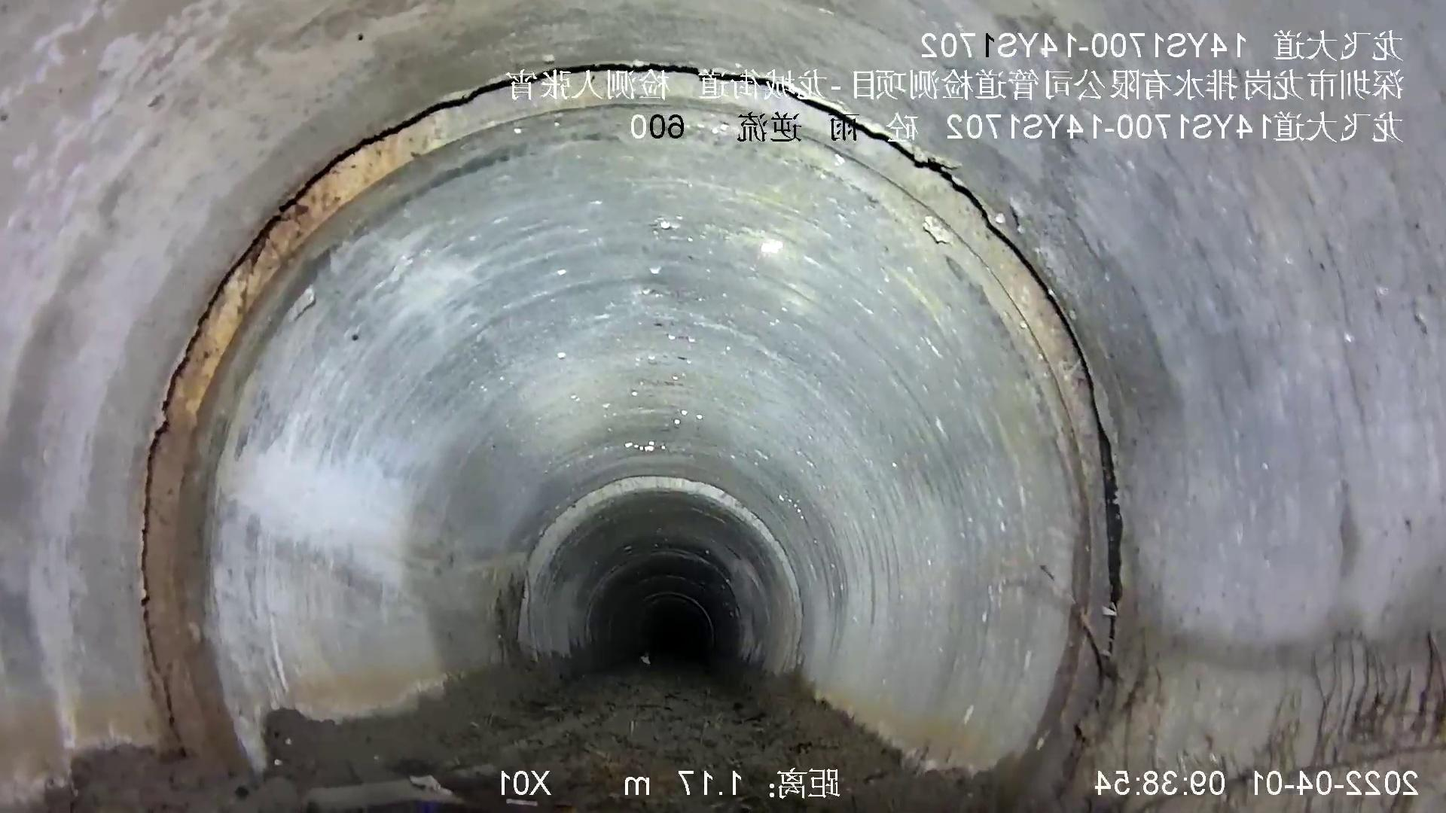CJ: (29, 660, 1005, 812)
CKTJ: (136, 58, 1124, 812), (518, 476, 803, 669)
